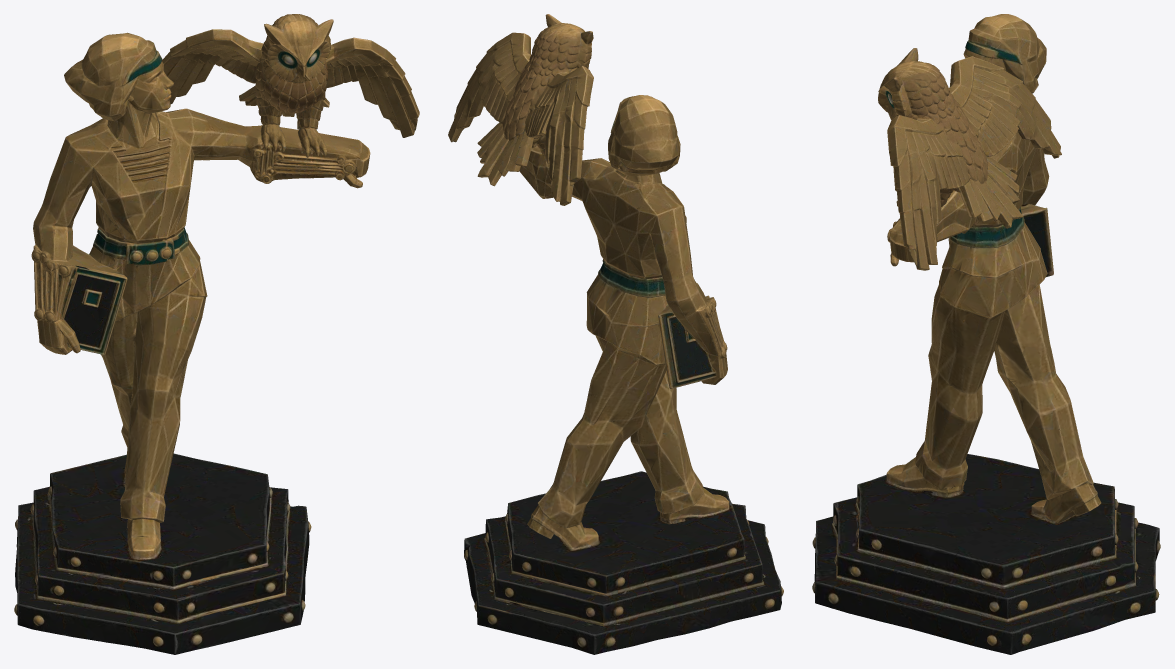
The model's file is knowledge.glb.
3 renders of one model, left to right at view 1: azimuth 30°, elevation 25°; view 2: azimuth 150°, elevation 25°; view 3: azimuth 270°, elevation 25°, orthographic. The views are drawn at different scales.
Size of the model in its own units: 1.33 by 1.88 by 1.06.
Materials: 1 (1 with a texture image).
